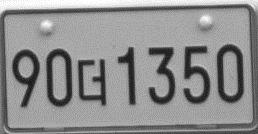0: (44, 48, 73, 108), (215, 44, 245, 102)
1: (111, 45, 145, 106)
3: (144, 44, 176, 104)
5: (181, 45, 211, 105)
9: (9, 47, 41, 108)
더: (76, 58, 109, 108)
